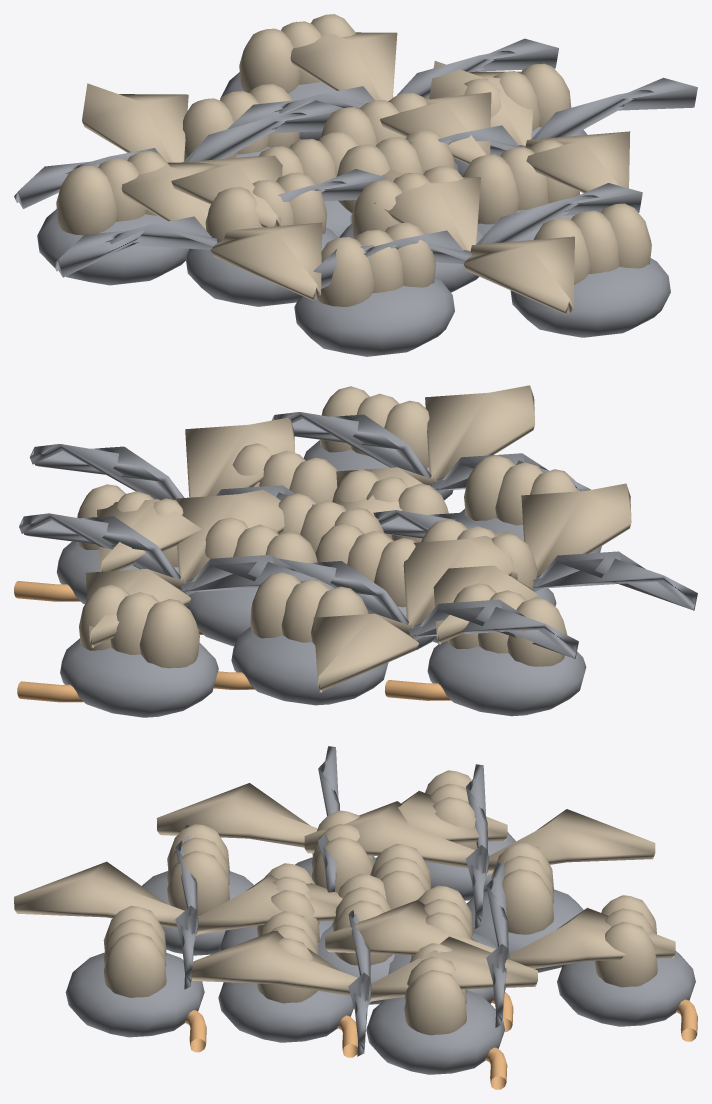
The model's file is bio_acid_mat_15_far.glb.
3 views of the same model, one above another, from view 1: azimuth 30°, elevation 25°; view 2: azimuth 150°, elevation 25°; view 3: azimuth 270°, elevation 25° (orthographic). The views are drawn at different scales.
Parts seen in each view (by area): view 1: Low buttress leaf.009, Low buttress leaf.013, Low buttress leaf.005, Low buttress leaf.017, Microbial cushion.007, Low buttress leaf.001, Microbial cushion.010, Reaction vesicle.021, Reaction vesicle.027, Low buttress leaf.016, Reaction vesicle.030, Low buttress leaf.008 (+17 smaller); view 2: Low buttress leaf.005, Low buttress leaf.017, Low buttress leaf.001, Low buttress leaf.009, Microbial cushion.011, Microbial cushion.009, Low buttress leaf.013, Low buttress leaf.012, Reaction vesicle.033, Low buttress leaf.004, Low buttress leaf.016, Microbial cushion.006 (+21 smaller); view 3: Low buttress leaf.001, Low buttress leaf.009, Low buttress leaf.005, Low buttress leaf.013, Low buttress leaf.017, Microbial cushion.008, Microbial cushion.010, Microbial cushion.011, Microbial cushion.005, Reaction vesicle.030, Reaction vesicle.024, Reaction vesicle.033 (+24 smaller).
Part boxes in pixels (x1,y1,x2,y2): Low buttress leaf.009: (374,169,574,314); Low buttress leaf.013: (290,21,491,164); Low buttress leaf.005: (82,83,282,227); Low buttress leaf.017: (121,152,322,300); Microbial cushion.007: (294,277,454,356); Low buttress leaf.001: (429,61,630,192); Microbial cushion.010: (510,258,670,337); Reaction vesicle.021: (318,222,435,306); Reaction vesicle.027: (56,151,169,235); Low buttress leaf.016: (54,169,386,277); Reaction vesicle.030: (533,203,651,284); Low buttress leaf.008: (313,183,642,288); Low buttress leaf.005: (313,531,512,692); Low buttress leaf.017: (433,483,631,644); Low buttress leaf.001: (97,418,295,571); Low buttress leaf.009: (336,385,534,515); Microbial cushion.011: (60,638,218,717); Microbial cushion.009: (427,640,586,716); Low buttress leaf.013: (85,489,284,647); Low buttress leaf.012: (19,513,334,594); Reaction vesicle.033: (79,584,199,668); Low buttress leaf.004: (278,558,578,658); Low buttress leaf.016: (373,510,697,610); Microbial cushion.006: (231,627,388,705); Low buttress leaf.001: (192,930,537,1002); Low buttress leaf.009: (14,861,342,935); Low buttress leaf.005: (304,801,655,874); Low buttress leaf.013: (325,900,675,968); Low buttress leaf.017: (156,783,507,847); Microbial cushion.008: (366,990,504,1074); Microbial cushion.010: (65,952,204,1037); Microbial cushion.011: (557,951,695,1026); Microbial cushion.005: (218,960,353,1042); Reaction vesicle.030: (103,905,166,997); Reaction vesicle.024: (404,943,466,1035); Reaction vesicle.033: (595,895,657,987).
Bounding box in the file's own units: 2.22 × 0.3799 × 2.16.
